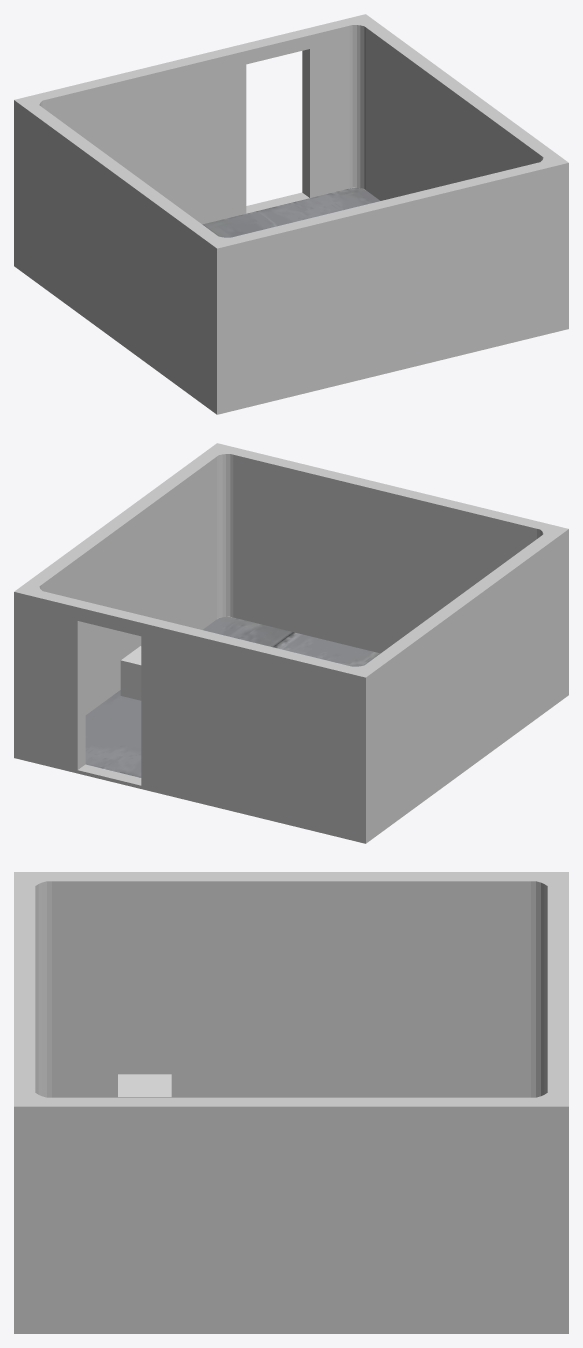
3 renders of one model, top to bottom at view 1: azimuth 30°, elevation 25°; view 2: azimuth 150°, elevation 25°; view 3: azimuth 270°, elevation 25°, orthographic. The views are drawn at different scales.
Parts seen in each view (by area): view 1: Cube; view 2: Cube, Cube.002; view 3: Cube, Cube.001.
Boxes of the visible parts, box(x1,y1,x2,y2) form: Cube: box(14, 14, 568, 414); Cube: box(14, 443, 568, 843); Cube.002: box(120, 646, 141, 700); Cube: box(14, 872, 568, 1333); Cube.001: box(118, 1074, 171, 1097).
Size of the model in its own units: 20.75 by 9.37 by 20.75.
2 materials, 1 textured.
